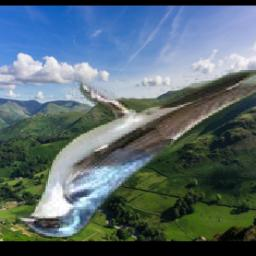Swallow: (15, 70, 256, 238)
